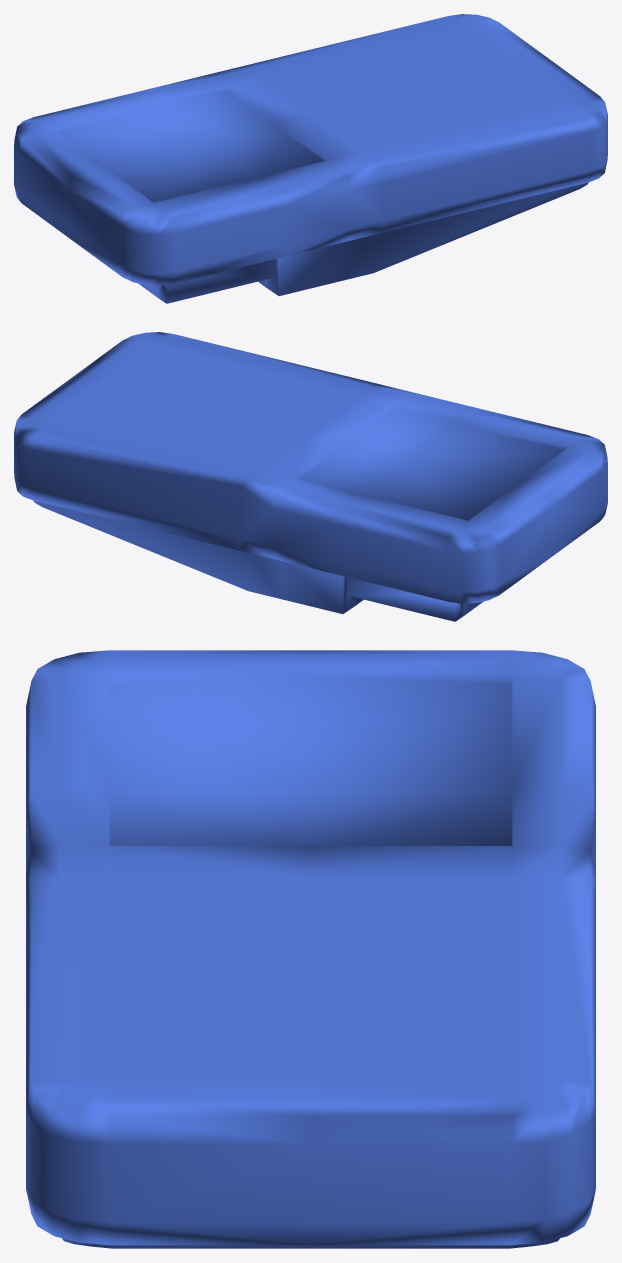
Rendered from Pintoboy.fbx.
3 renders of one model, top to bottom at view 1: azimuth 30°, elevation 25°; view 2: azimuth 150°, elevation 25°; view 3: azimuth 270°, elevation 25°, orthographic. The views are drawn at different scales.
Visible parts, largest first — view 1: Pintoboy; view 2: Pintoboy; view 3: Pintoboy.
Boxes of the visible parts, x1=… form: Pintoboy: x1=14, y1=14, x2=607, y2=303; Pintoboy: x1=14, y1=332, x2=607, y2=621; Pintoboy: x1=26, y1=650, x2=595, y2=1248.
Bounding box in the file's own units: 1459 × 323 × 746.
